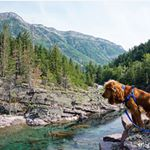puppy: (97, 76, 150, 131)
